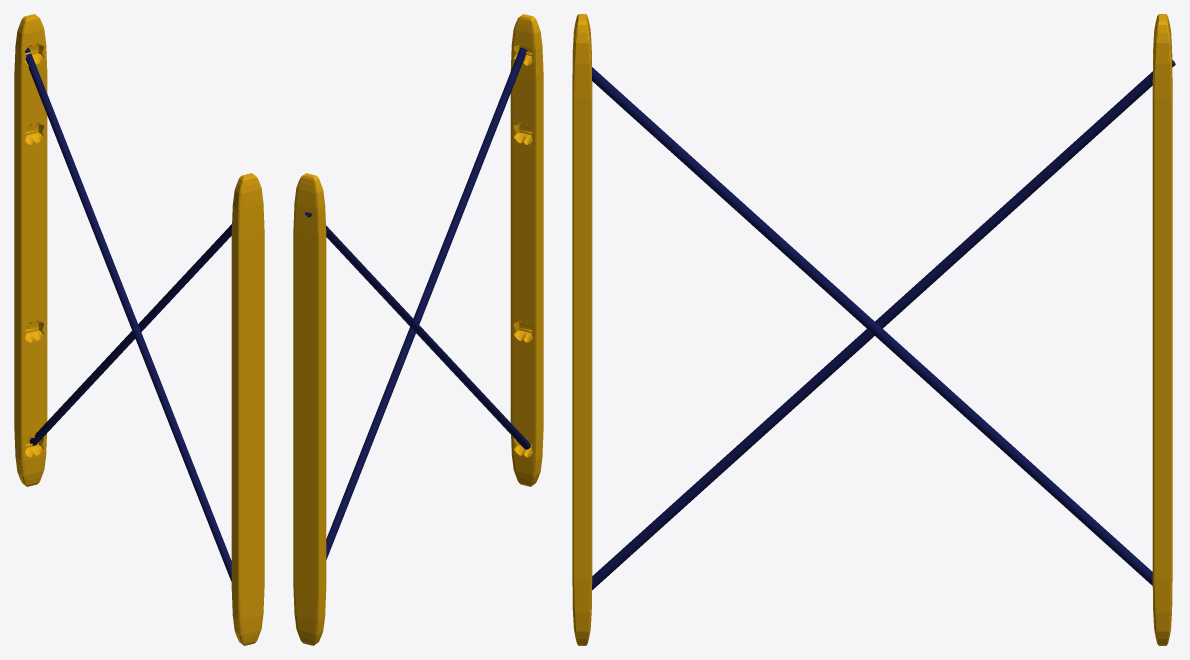
Rendered from ScaffoldingWall.fbx.
The picture shows the model from 3 angles, left to right: view 1: azimuth 30°, elevation 25°; view 2: azimuth 150°, elevation 25°; view 3: azimuth 270°, elevation 25°; orthographic projection. The views are drawn at different scales.
Parts seen in each view (by area): view 1: Cube, Cube.001, Cylinder, Cylinder.001; view 2: Cube.001, Cube, Cylinder.001, Cylinder; view 3: Cube, Cube.001, Cylinder.001, Cylinder.
Boxes of the visible parts, <box> form: Cube: <box>231,173,264,645</box>; Cube.001: <box>14,14,47,486</box>; Cylinder: <box>25,47,231,581</box>; Cylinder.001: <box>29,224,231,445</box>; Cube.001: <box>293,173,326,645</box>; Cube: <box>510,14,543,486</box>; Cylinder.001: <box>326,47,527,559</box>; Cylinder: <box>305,212,530,449</box>; Cube: <box>572,14,592,645</box>; Cube.001: <box>1152,14,1172,645</box>; Cylinder.001: <box>592,67,1152,585</box>; Cylinder: <box>592,60,1175,590</box>.
Bounding box in the file's own units: 14.02 × 237 × 207.
